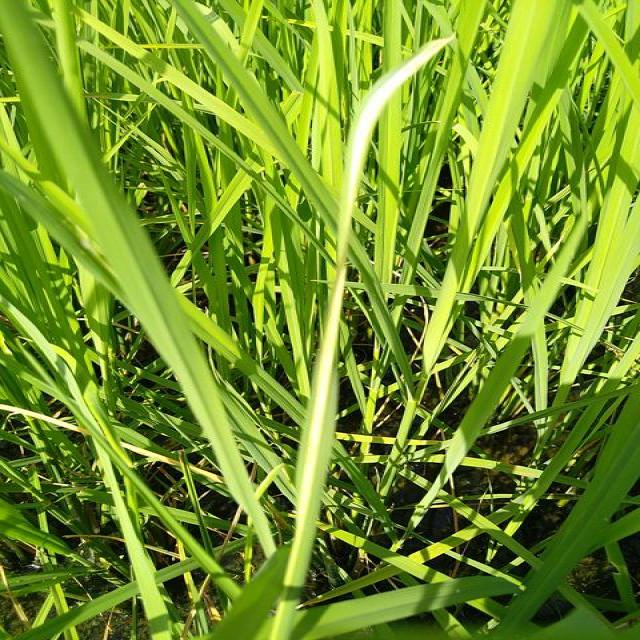Leaf Blight: (305, 39, 452, 467)
